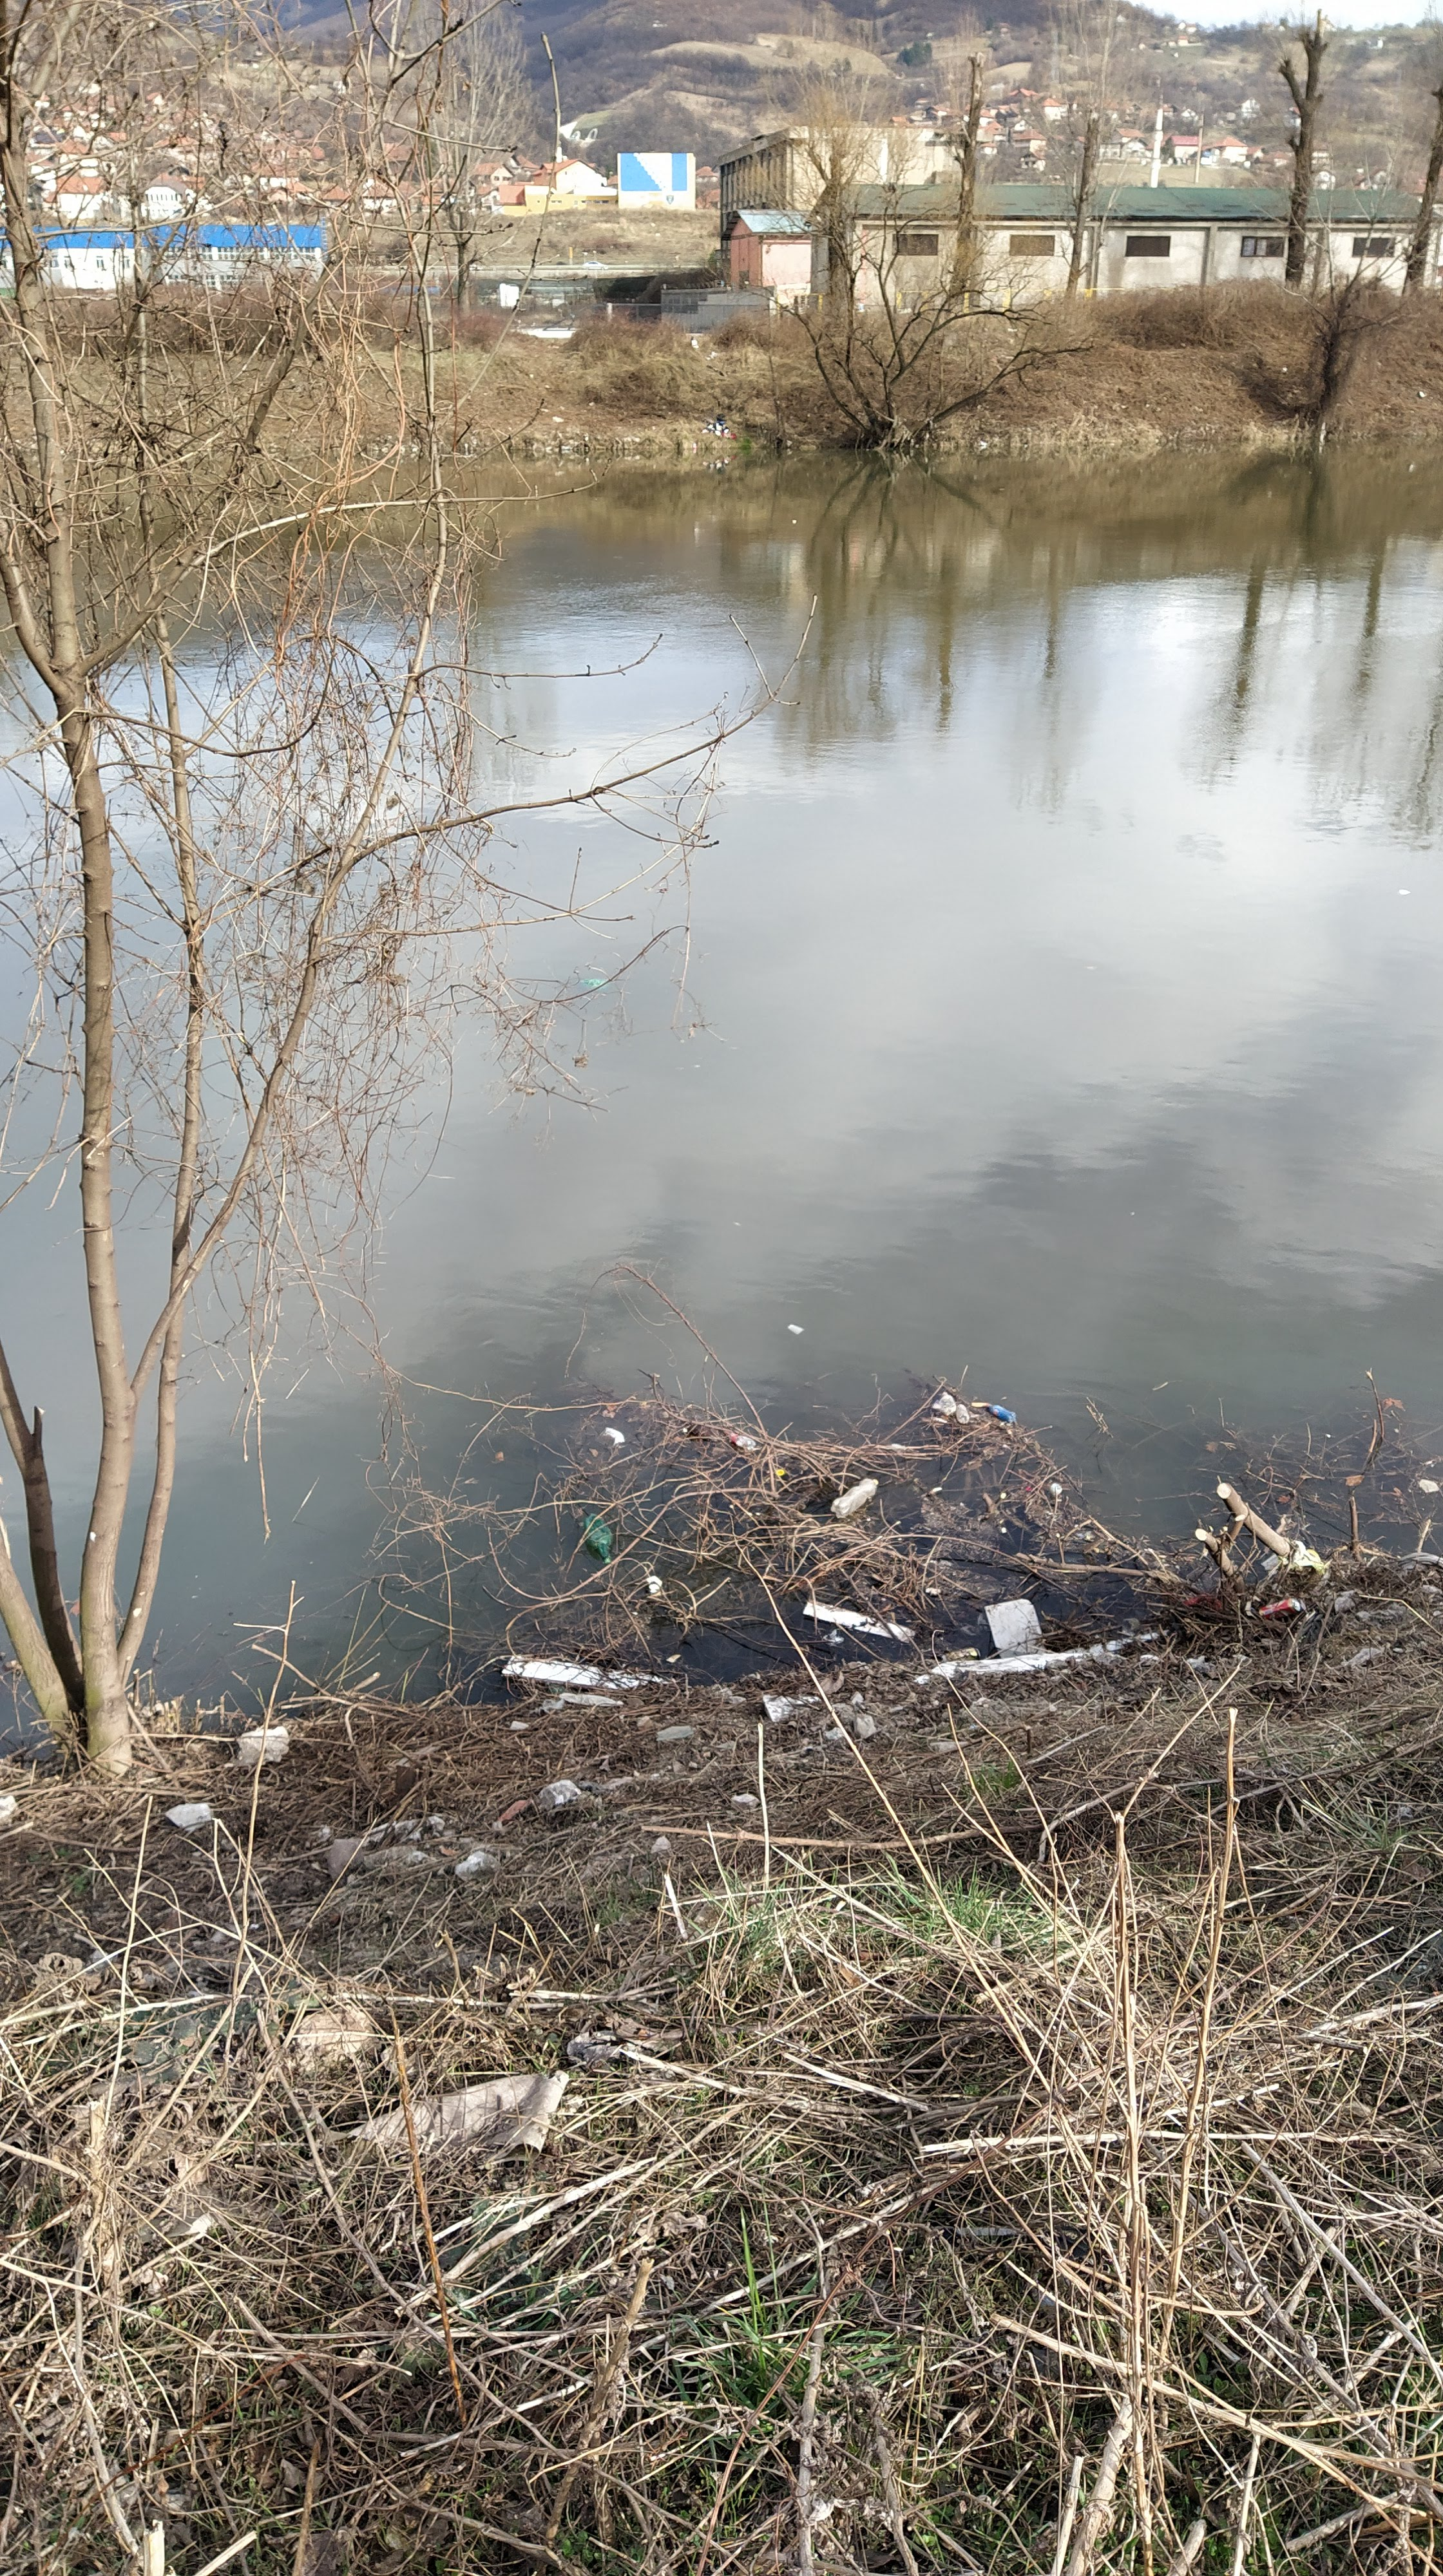Plastic Bottle: (830, 1477, 878, 1518), (584, 1513, 613, 1566), (724, 1430, 756, 1449), (988, 1405, 1015, 1422), (940, 1391, 956, 1415), (579, 978, 607, 989), (956, 1403, 970, 1422), (1050, 1483, 1062, 1497)
